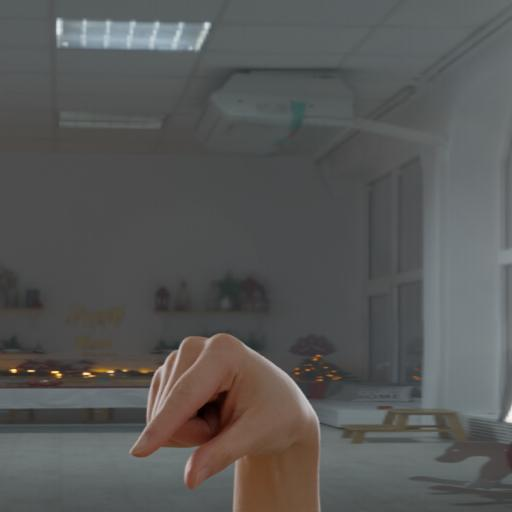Q: (119, 313, 337, 512)
